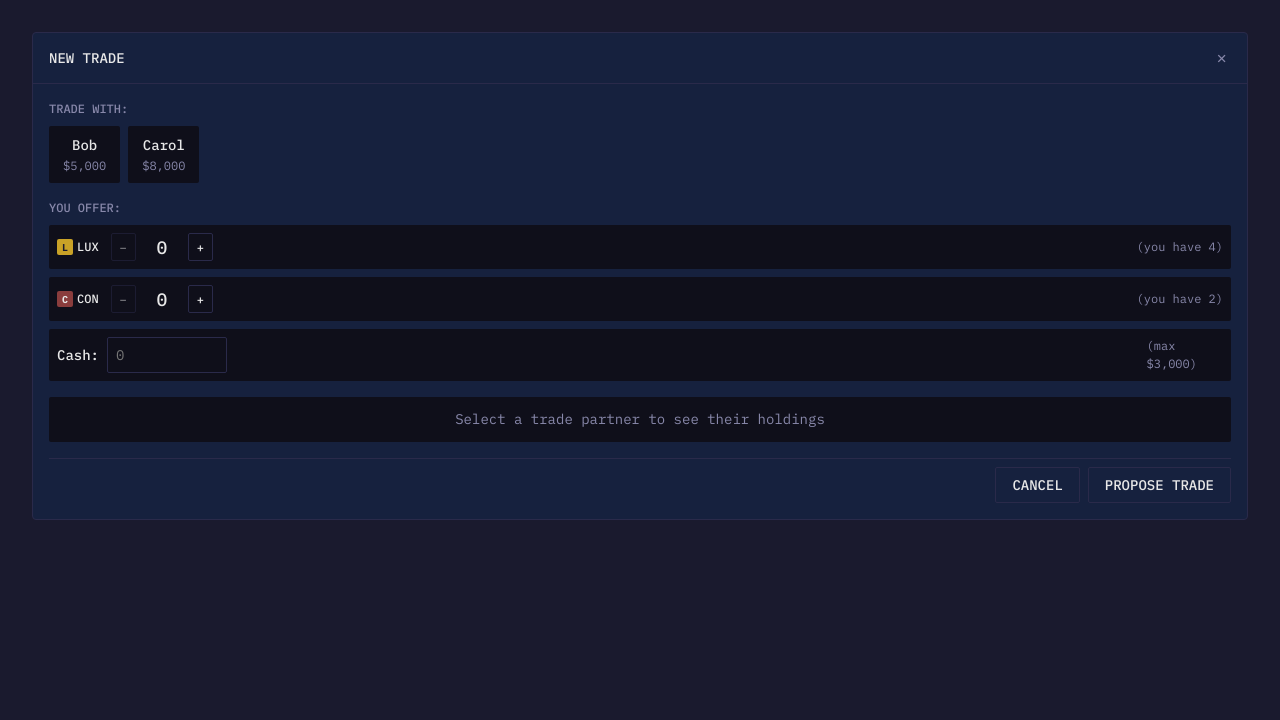
Test: TradeBuilder › player selection › resets want section when switching partners
Note: Select Bob and set some want values
What coordinates should you click on to do the following:
click the button with test id "player-select-player-2"
I would click on:
 (85, 154)
Its box is left=49, top=126, right=120, bottom=183.
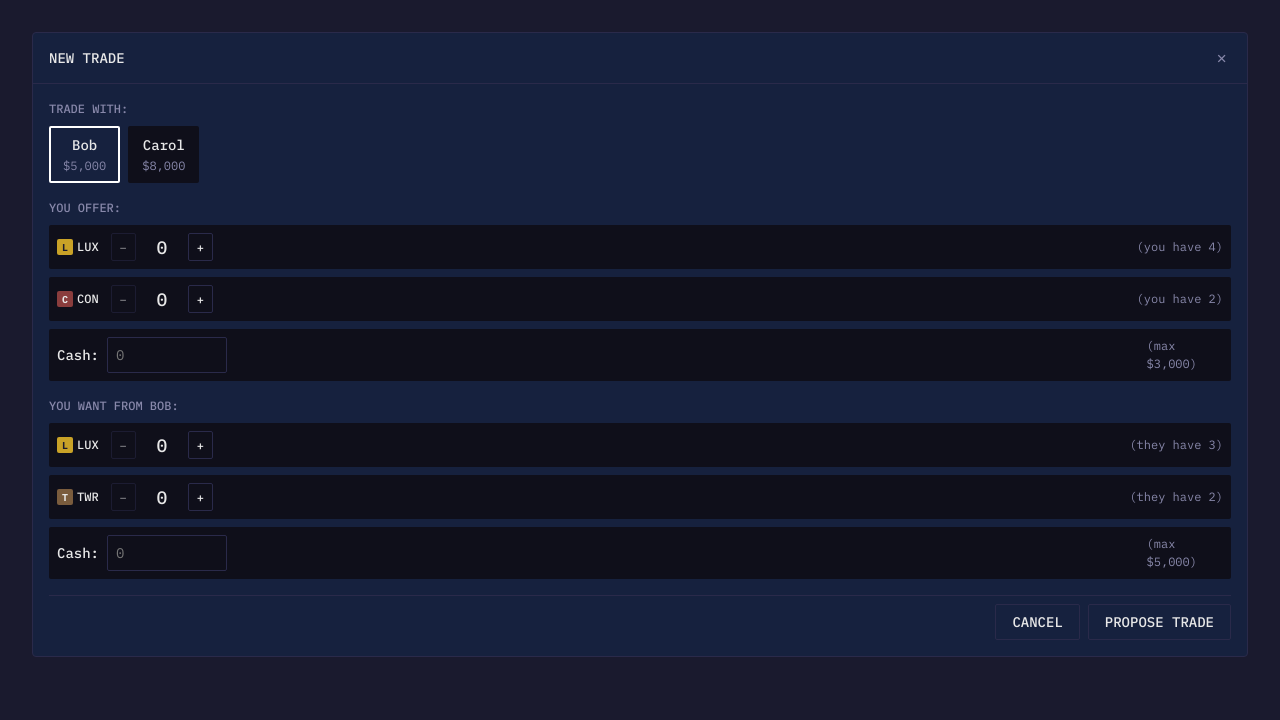
Note: Switch to Carol
What coordinates should you click on to do the following:
click the button with test id "player-select-player-3"
I would click on:
 (164, 154)
Its box is left=128, top=126, right=199, bottom=183.
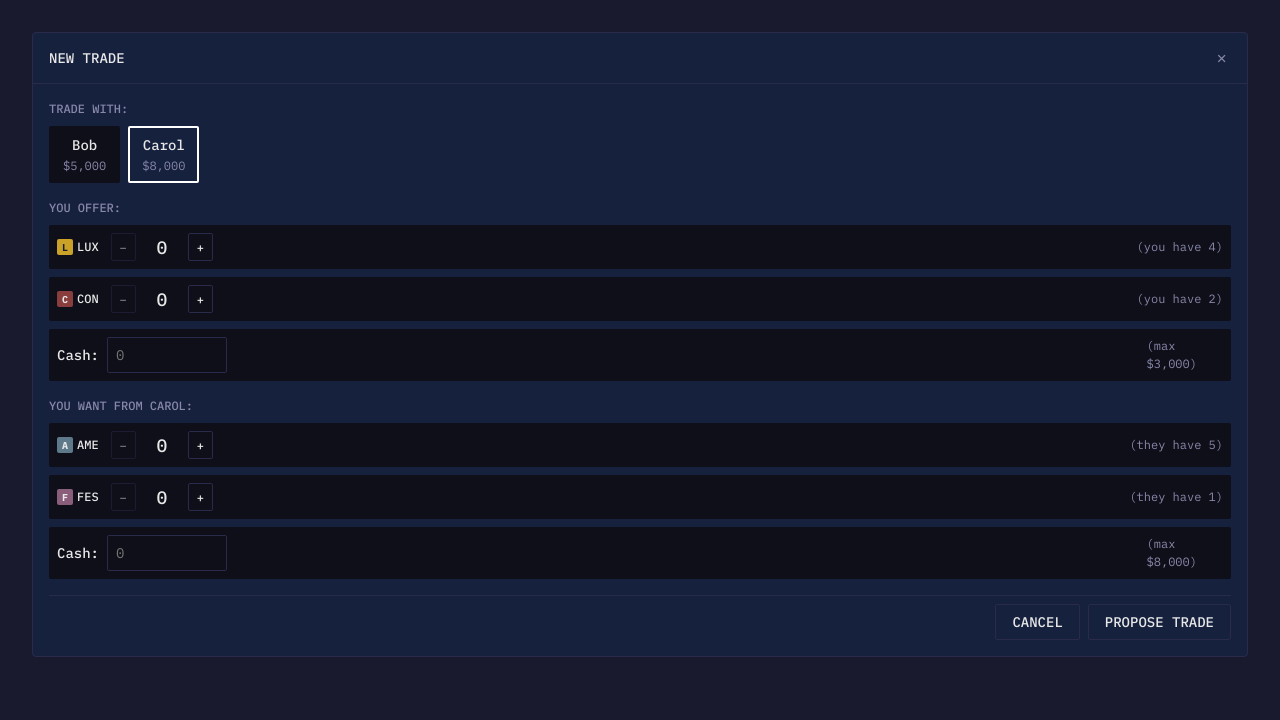
Expected: the text "YOU WANT FROM CAROL:" is shown, left=49, top=398, right=193, bottom=413
Expected: the text "(they have 5)" is shown, left=1129, top=436, right=1223, bottom=454
